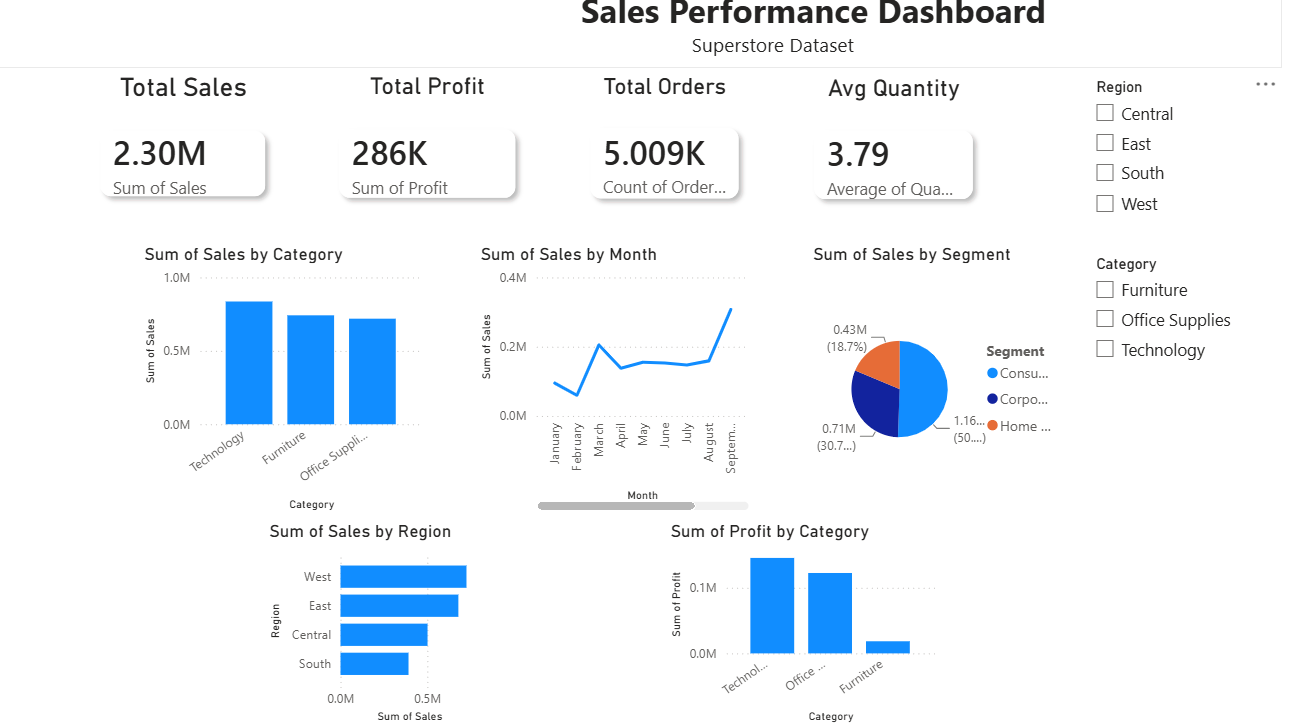

This screenshot's page, from the dashboard's own definition file:
{"tool":"powerbi","page":{"name":"Page 1","canvas":[1280,720],"ordinal":0},"visuals":[{"type":"clusteredColumnChart","fields":{"Category":["Orders.Category"],"Y":["Sum(Orders.Sales)"]},"box":[146.3,252.2,279.1,262.7],"z":0},{"type":"clusteredBarChart","fields":{"Category":["Orders.Region"],"Y":["Sum(Orders.Sales)"]},"box":[267.2,519.4,226.9,200],"z":1},{"type":"columnChart","fields":{"Category":["Orders.Category"],"Y":["Sum(Orders.Profit)"]},"box":[653.7,519.4,265.7,200],"z":2},{"type":"pieChart","fields":{"Category":["Orders.Segment"],"Y":["Sum(Orders.Sales)"]},"box":[791,252.2,249.3,262.7],"z":3},{"type":"lineChart","fields":{"Category":["Orders.Order Date.Variation.Date Hierarchy.Month"],"Y":["Sum(Orders.Sales)"]},"box":[470.1,252.2,268.7,262.7],"z":4},{"type":"cardVisual","title":"Total Sales","fields":{"Data":["Sum(Orders.Sales)"]},"box":[79.1,86.6,217.9,149],"z":5},{"type":"cardVisual","title":"Total Profit","fields":{"Data":["Sum(Orders.Profit)"]},"box":[310.4,86.6,228.4,150.7],"z":6},{"type":"slicer","fields":{"Values":["Orders.Region"]},"box":[1056.7,88.1,203,155.2],"z":9},{"type":"slicer","fields":{"Values":["Orders.Category"]},"box":[1056.7,258.2,203,140.3],"z":10},{"type":"textbox","box":[0,0,1249.3,83.6],"z":13},{"type":"cardVisual","title":"Total Orders","fields":{"Data":["Count(Orders.Order ID)"]},"box":[552.2,88.1,201.5,150.7],"z":14},{"type":"cardVisual","title":"Avg Quantity","fields":{"Data":["Avg(Orders.Quantity)"]},"box":[768.7,88.1,211.9,150.7],"z":15}]}

Visuals, with their boxes in screenshot pixels (x1, y1, x2, y2), scaled from the page's 1280x720 canvas onto the 1308x727 screenshot:
clusteredColumnChart - Orders.Category x Sum(Orders.Sales): BBox(150, 255, 435, 520)
clusteredBarChart - Orders.Region x Sum(Orders.Sales): BBox(273, 524, 505, 726)
columnChart - Orders.Category x Sum(Orders.Profit): BBox(668, 524, 940, 726)
pieChart - Orders.Segment x Sum(Orders.Sales): BBox(808, 255, 1063, 520)
lineChart - Orders.Order Date.Variation.Date Hierarchy.Month x Sum(Orders.Sales): BBox(480, 255, 755, 520)
"Total Sales" cardVisual: BBox(81, 87, 303, 238)
"Total Profit" cardVisual: BBox(317, 87, 551, 240)
slicer - Orders.Region: BBox(1080, 89, 1287, 246)
slicer - Orders.Category: BBox(1080, 261, 1287, 402)
textbox: BBox(0, 0, 1277, 84)
"Total Orders" cardVisual: BBox(564, 89, 770, 241)
"Avg Quantity" cardVisual: BBox(786, 89, 1002, 241)
